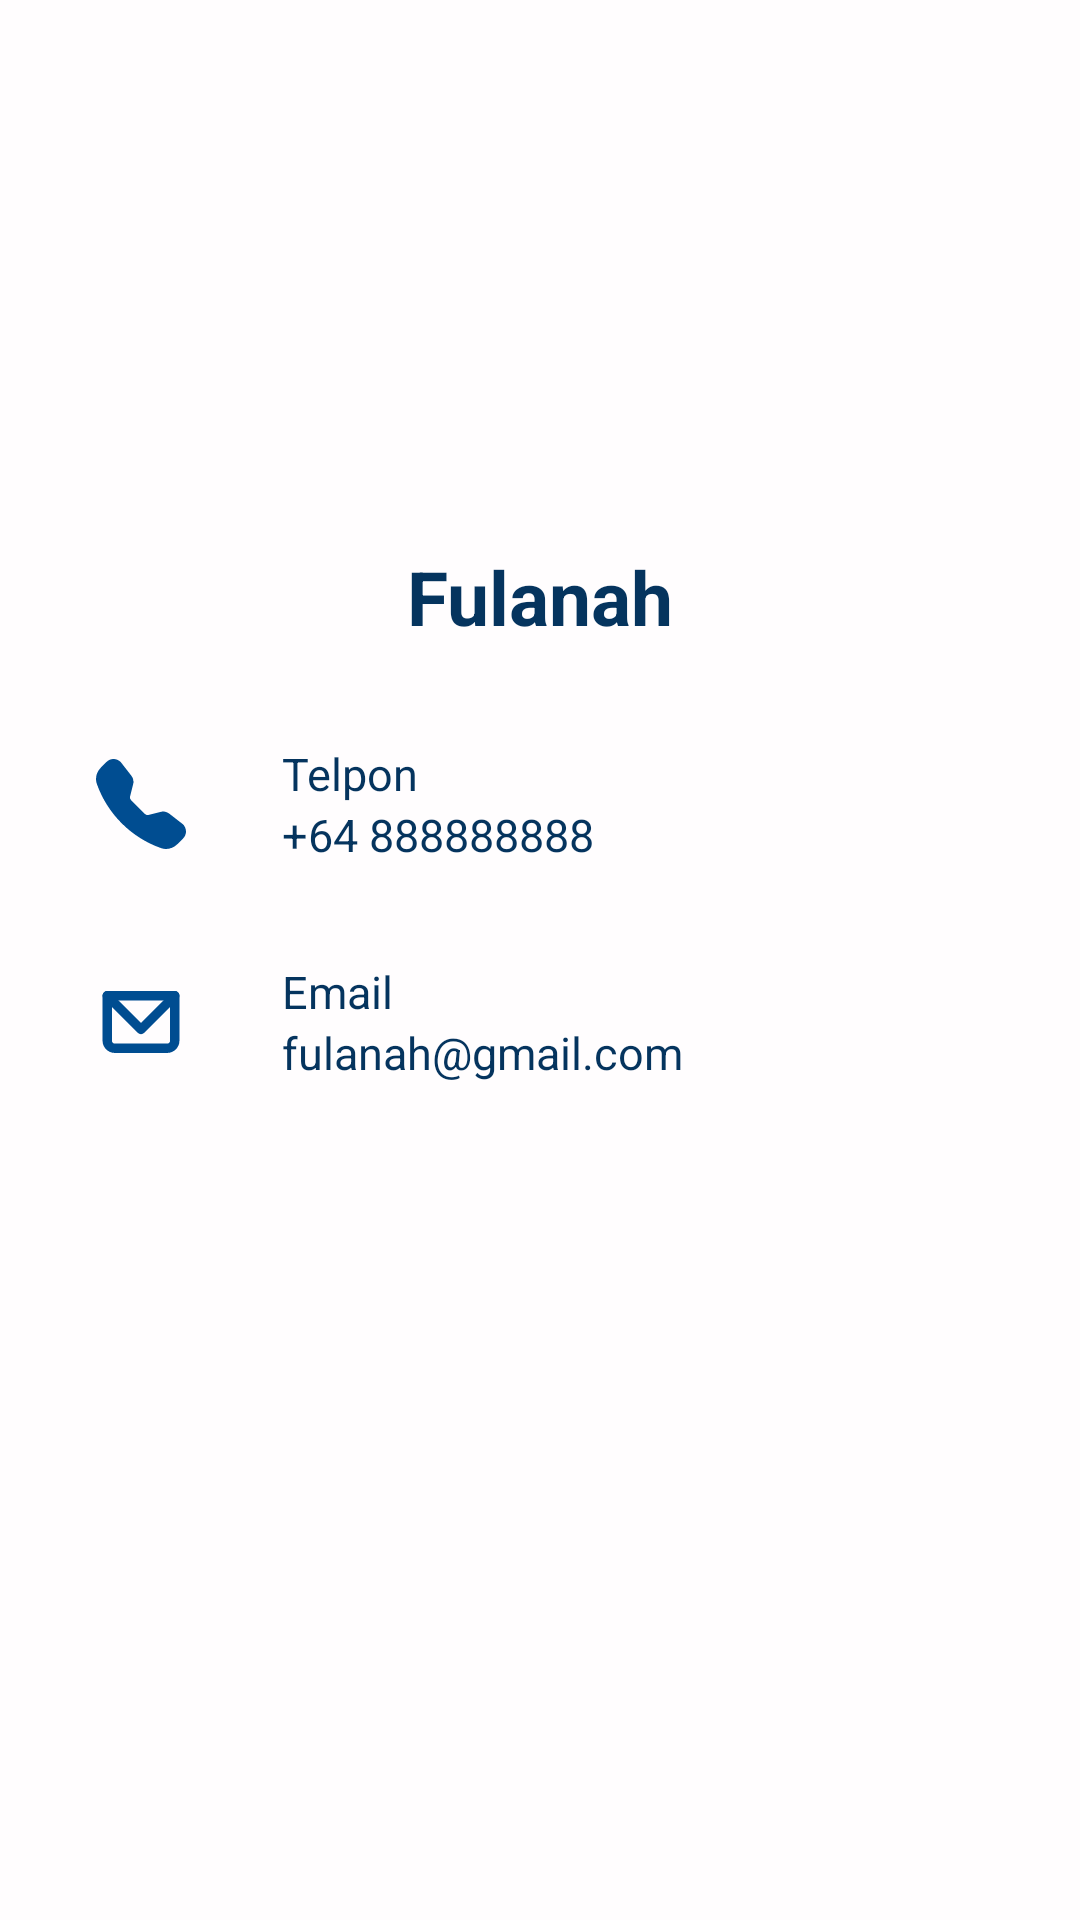

Screen size 1080×1920. Icon name, then its center in pixels as [x,y]:
phone: [141,804]
